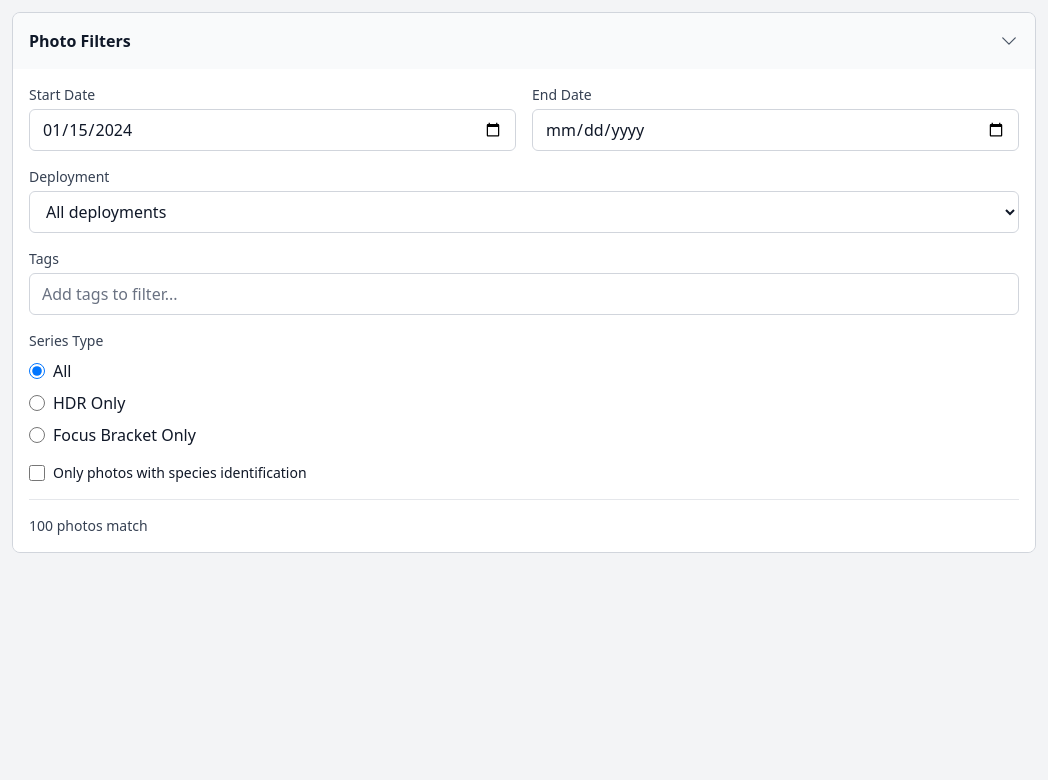
it: FilterPanel › validates date range (start <= end)
Type "2024-01-01" into the date field labelled "End Date" at (776, 130), box [532,109,1019,151]
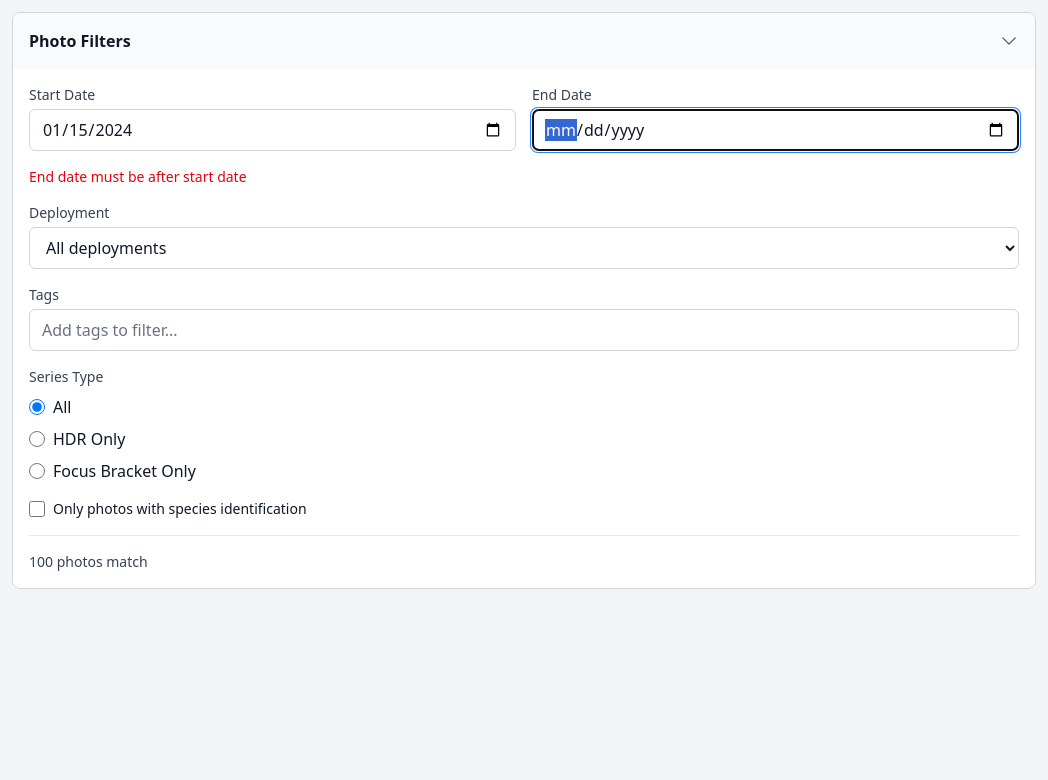
Now the text "End date must be after start date" is shown, box [29,167,247,186]
